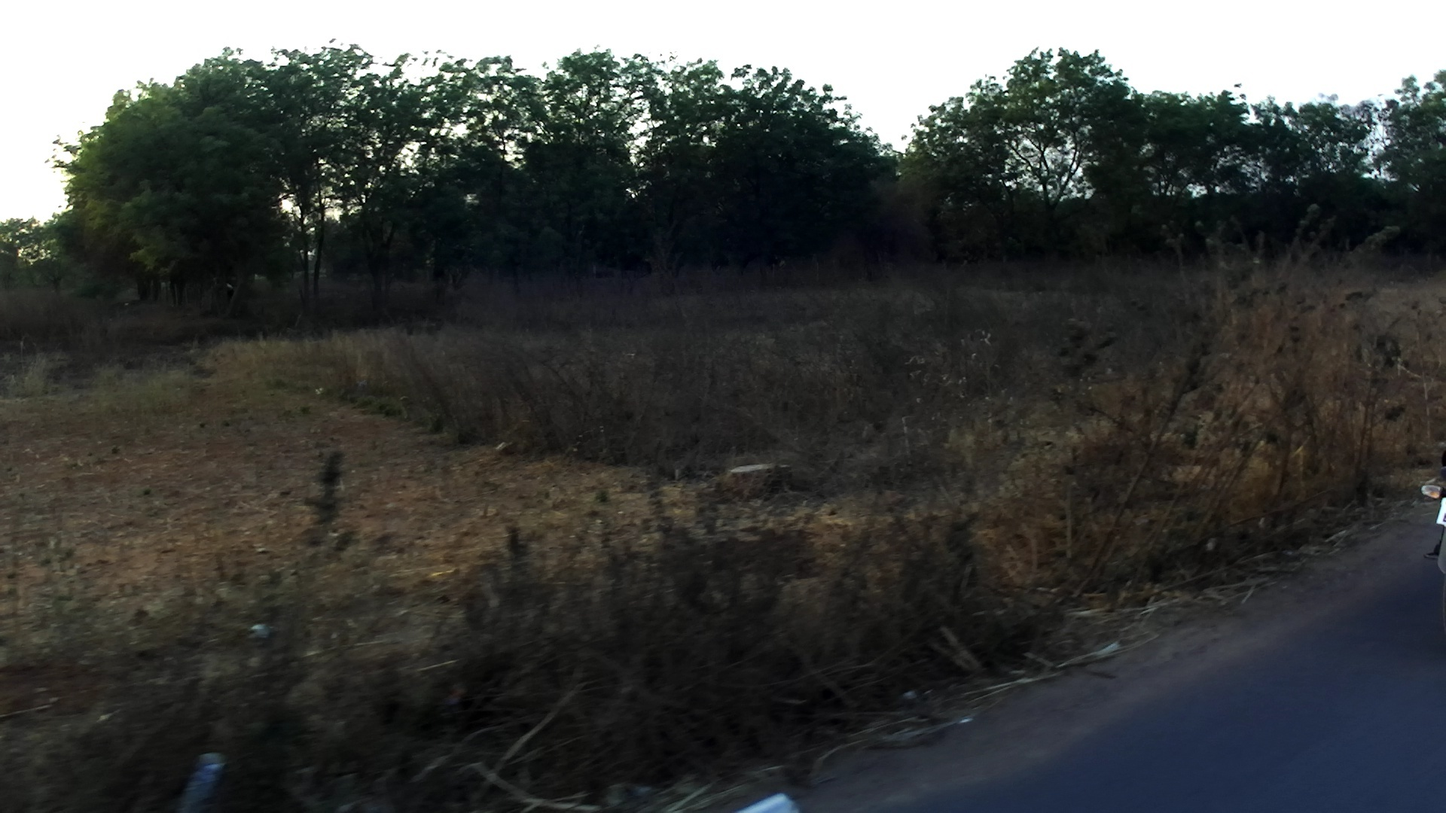motorcycle: (1420, 448, 1446, 579)
